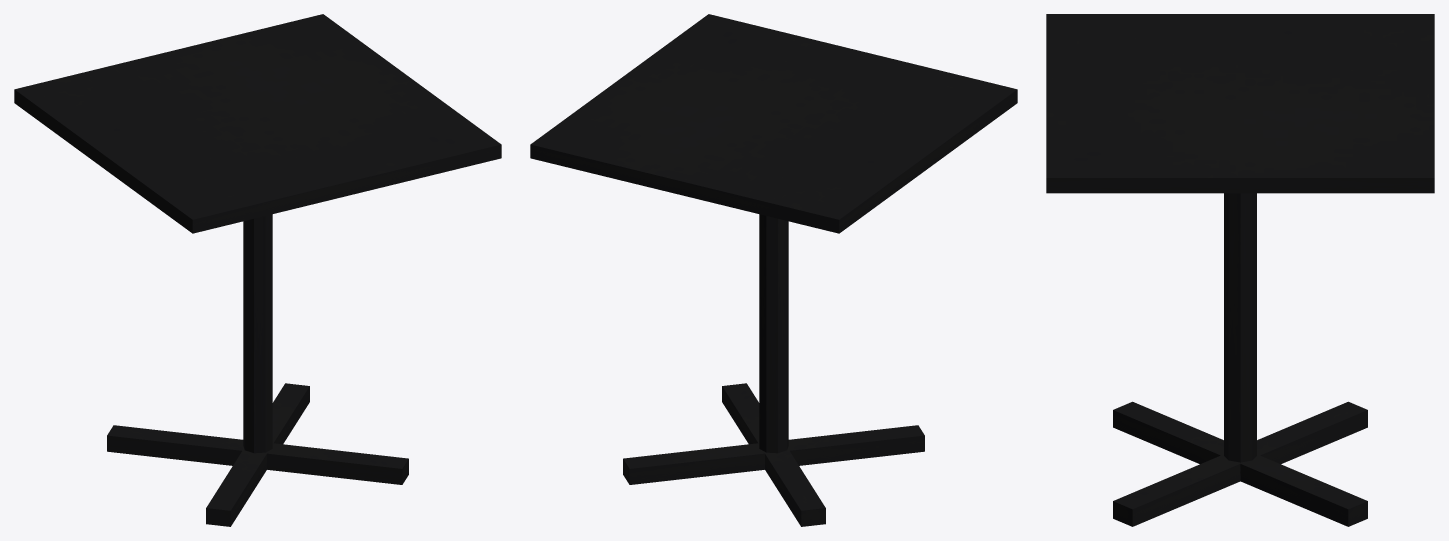
The model's file is SM_Molo_TavoloNero.fbx.
3 renders of one model, left to right at view 1: azimuth 30°, elevation 25°; view 2: azimuth 150°, elevation 25°; view 3: azimuth 270°, elevation 25°, orthographic. The views are drawn at different scales.
Parts seen in each view (by area): view 1: SM_Molo_TavoloNero; view 2: SM_Molo_TavoloNero; view 3: SM_Molo_TavoloNero.
Part boxes in pixels (x1=…): SM_Molo_TavoloNero: x1=14, y1=14, x2=501, y2=526; SM_Molo_TavoloNero: x1=530, y1=14, x2=1017, y2=526; SM_Molo_TavoloNero: x1=1046, y1=14, x2=1434, y2=526.
Size of what is drawn, in the model's own units: 70 by 70 by 75.
1 material, 1 textured.
